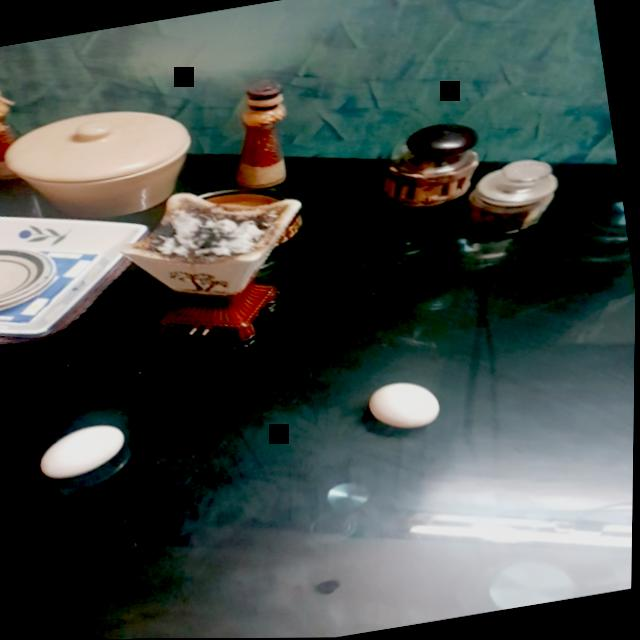eggs: (31, 412, 134, 484), (356, 369, 452, 443)
